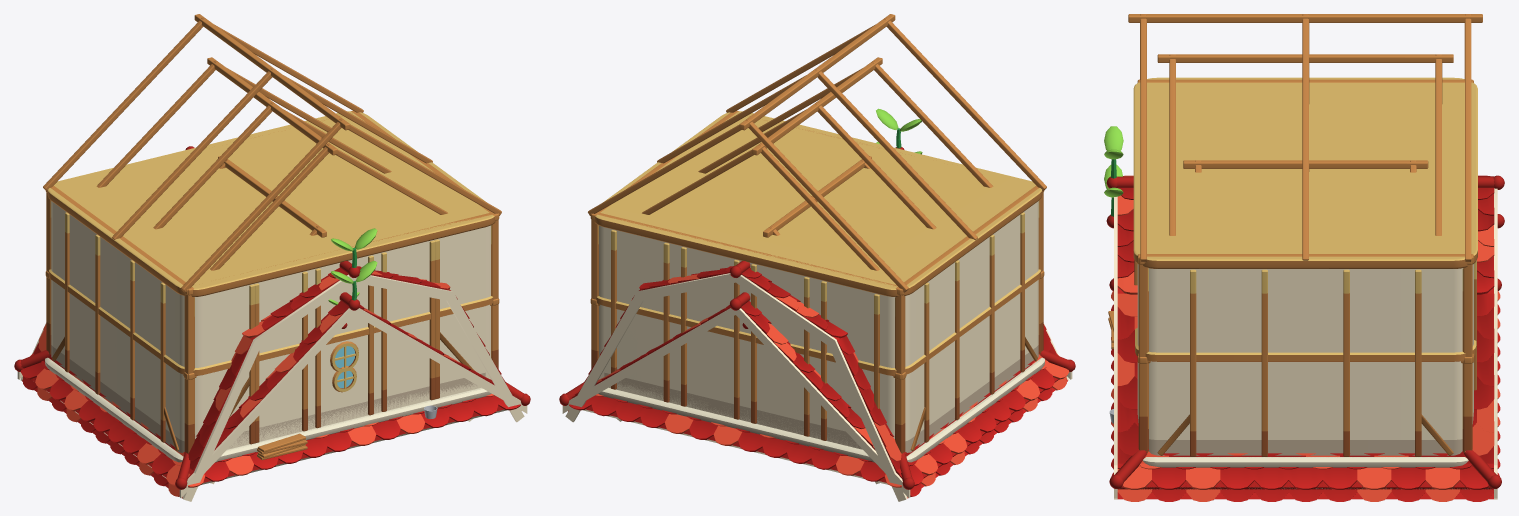
File: kingdom_house_kit.glb
The picture shows the model from 3 angles, left to right: view 1: azimuth 30°, elevation 25°; view 2: azimuth 150°, elevation 25°; view 3: azimuth 270°, elevation 25°; orthographic projection. The views are drawn at different scales.
Parts seen in each view (by area): view 1: KH_Body_Manor, KH_Roof_Barn_Manor, KH_Frame_Manor, KH_Roof_Gable_Manor, KH_Timber_Manor, KH_Roof_Hip_Manor, KH_Frame_House, KH_Frame_Cottage; view 2: KH_Body_Manor, KH_Roof_Gable_Manor, KH_Roof_Barn_Manor, KH_Frame_Manor, KH_Timber_Manor, KH_Roof_Hip_Manor, KH_Frame_House, KH_Frame_Cottage; view 3: KH_Body_Manor, KH_Roof_Barn_Manor, KH_Frame_Manor, KH_Roof_Gable_Manor, KH_Timber_Manor, KH_Frame_House, KH_Roof_Hip_Manor, KH_Frame_Cottage.
Boxes of the visible parts, x1,y1,x2,y2 form: KH_Body_Manor: (45,111,495,462); KH_Roof_Barn_Manor: (20,146,524,501); KH_Frame_Manor: (43,14,501,460); KH_Roof_Gable_Manor: (17,261,527,497); KH_Timber_Manor: (50,200,491,450); KH_Roof_Hip_Manor: (14,350,530,489); KH_Frame_House: (96,57,447,270); KH_Frame_Cottage: (218,156,326,237); KH_Body_Manor: (594,111,1044,462); KH_Roof_Gable_Manor: (562,142,1072,497); KH_Roof_Barn_Manor: (565,108,1069,501); KH_Frame_Manor: (588,14,1046,453); KH_Timber_Manor: (598,200,1039,450); KH_Roof_Hip_Manor: (559,350,1075,489); KH_Frame_House: (642,57,993,270); KH_Frame_Cottage: (763,156,871,237); KH_Body_Manor: (1133,77,1477,467); KH_Roof_Barn_Manor: (1104,126,1504,501); KH_Frame_Manor: (1108,14,1482,457); KH_Roof_Gable_Manor: (1104,164,1504,498); KH_Timber_Manor: (1134,260,1476,456); KH_Frame_House: (1157,54,1453,235); KH_Roof_Hip_Manor: (1109,278,1501,489); KH_Frame_Cottage: (1183,160,1428,172).
Bounding box in the file's own units: 13.13 × 12.54 × 10.97.
